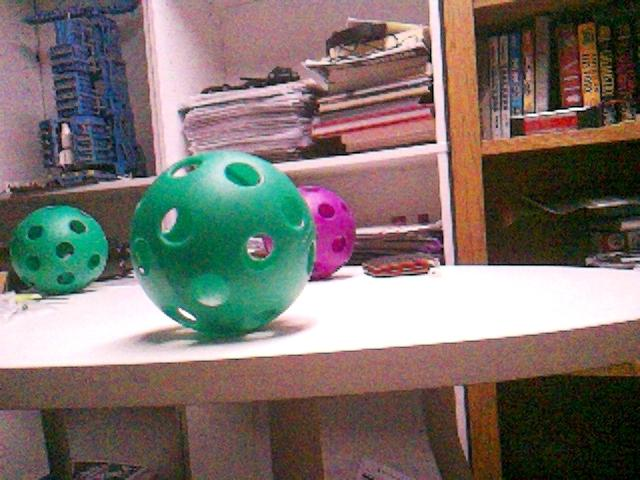Green: (128, 150, 313, 336), (8, 205, 108, 296)
Purple: (297, 184, 355, 279)
